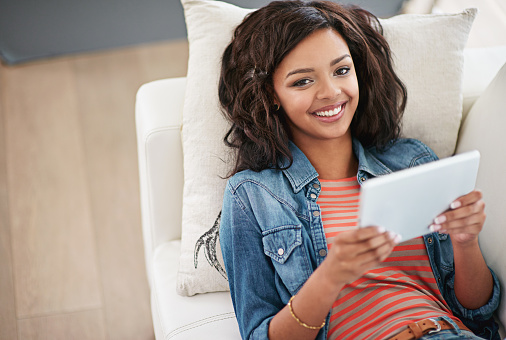deitado: (167, 0, 506, 340)
